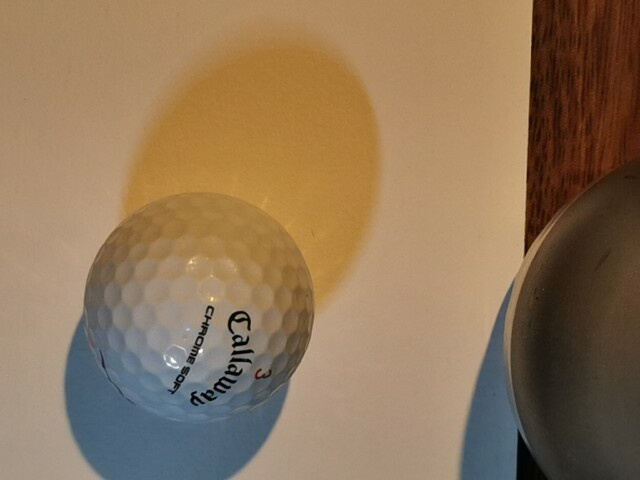Ball: (83, 191, 315, 424)
Callaway: (190, 310, 255, 407)
